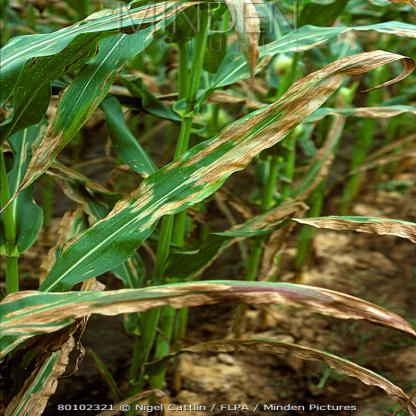Corn leaf blight: (40, 49, 409, 286), (1, 266, 412, 364), (18, 15, 192, 194), (4, 1, 272, 80), (139, 341, 404, 415), (187, 20, 415, 88), (218, 211, 415, 257)
